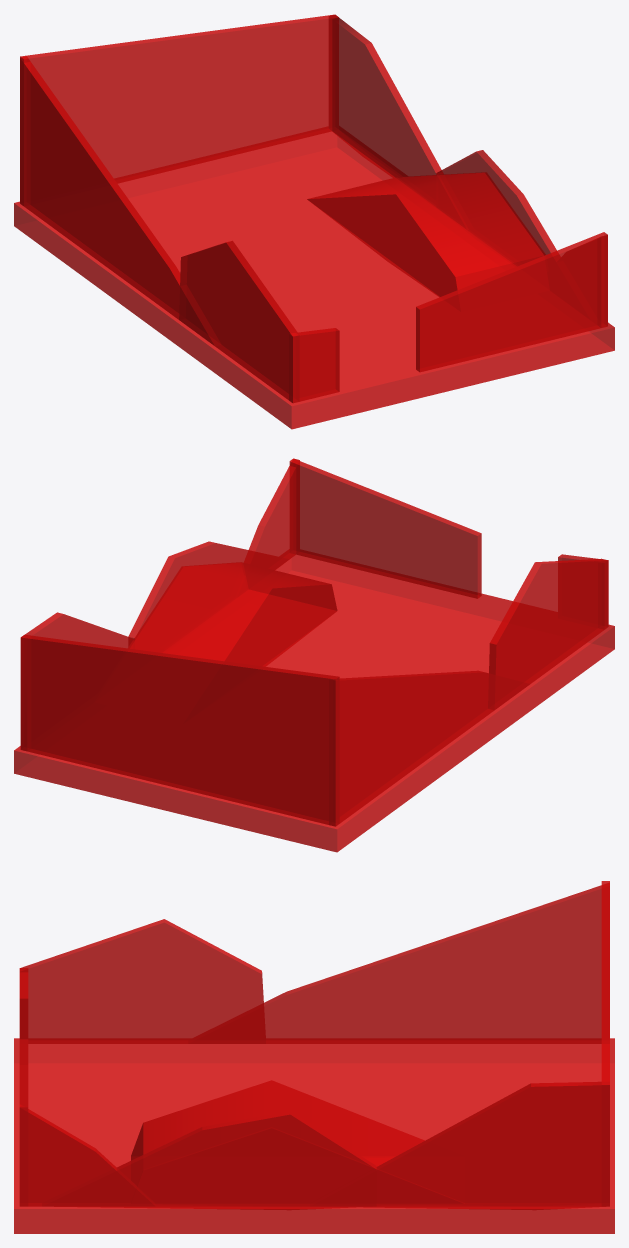
File: SM_Bld_City_Destroyed_01_Collision.fbx
3 renders of one model, top to bottom at view 1: azimuth 30°, elevation 25°; view 2: azimuth 150°, elevation 25°; view 3: azimuth 270°, elevation 25°, orthographic. The views are drawn at different scales.
Parts seen in each view (by area): view 1: SM_Bld_City_Destroyed_01_Collision; view 2: SM_Bld_City_Destroyed_01_Collision; view 3: SM_Bld_City_Destroyed_01_Collision.
Part boxes in pixels (left/top/right/bottom): SM_Bld_City_Destroyed_01_Collision: left=14, top=14, right=614, bottom=429; SM_Bld_City_Destroyed_01_Collision: left=14, top=458, right=614, bottom=852; SM_Bld_City_Destroyed_01_Collision: left=14, top=881, right=614, bottom=1233.
Bounding box in the file's own units: 513 × 259 × 764.
